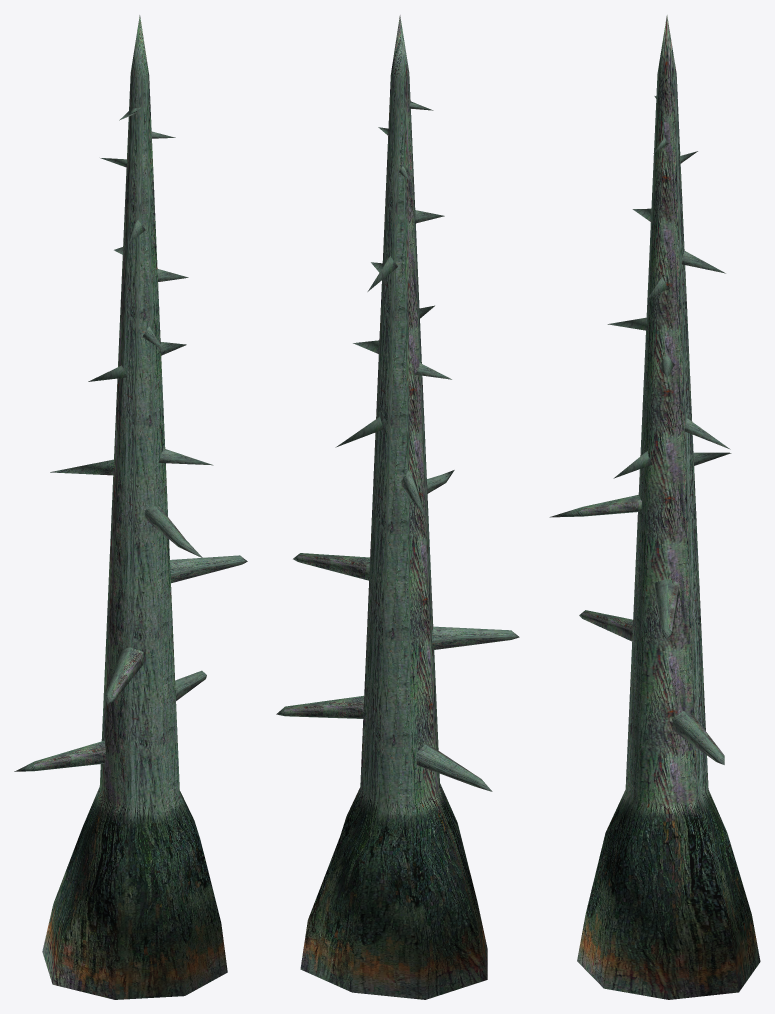
Rendered from conf_spiky_l1.fbx.
The picture shows the model from 3 angles, left to right: view 1: azimuth 30°, elevation 25°; view 2: azimuth 150°, elevation 25°; view 3: azimuth 270°, elevation 25°; orthographic projection.
Parts seen in each view (by area): view 1: mesh_node; view 2: mesh_node; view 3: mesh_node.
Part boxes in pixels (x1,y1,x2,y2): mesh_node: [14, 15, 247, 999]; mesh_node: [276, 15, 519, 999]; mesh_node: [549, 15, 760, 999].
Bounding box in the file's own units: 5.61 × 23.4 × 4.75.
